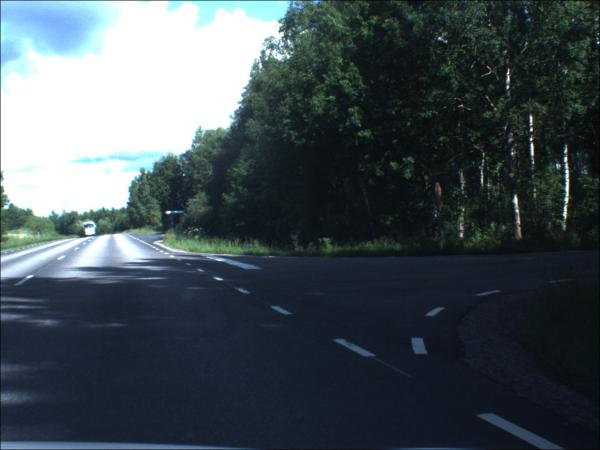80_SIGN: (152, 215, 157, 220)
PRIORITY_ROAD: (153, 220, 156, 223)
STOP: (436, 182, 444, 212)
